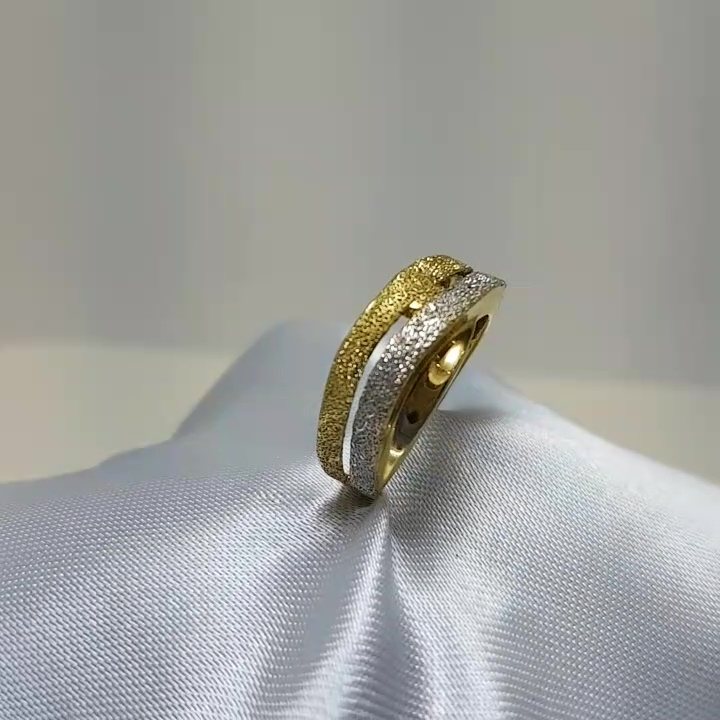Ring 5: (301, 235, 509, 527)
